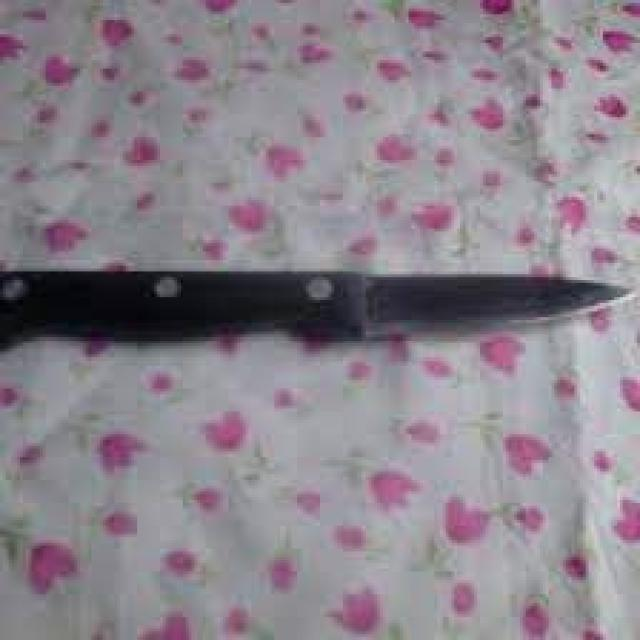Knife: (2, 103, 640, 408)
